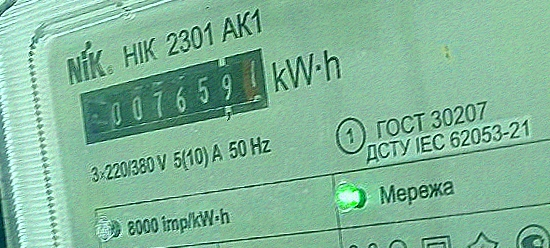0: (109, 97, 124, 126), (129, 94, 144, 121)
1: (245, 58, 259, 90)
5: (194, 74, 211, 107)
6: (173, 82, 188, 114)
7: (150, 86, 166, 119)
9: (218, 69, 235, 104)
screen: (62, 40, 290, 151)
